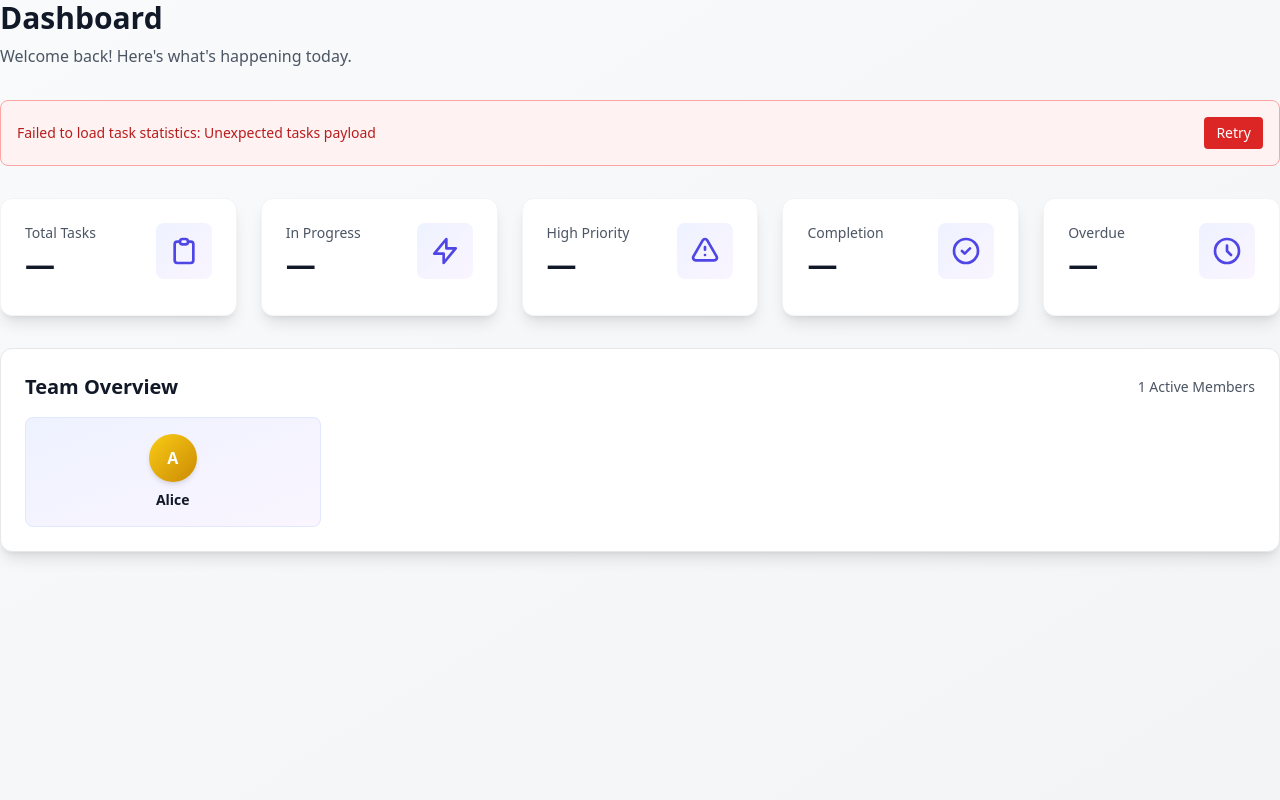
Dashboard main stat links › shows a Retry control on task-stat failure that reloads the stats on click
expect the message "Failed to load task statistics: Unexpected tasks payload Retry" is shown: met, box [0, 100, 1279, 166]
Click the button "Retry".
click(1234, 133)  # box [1204, 117, 1263, 149]
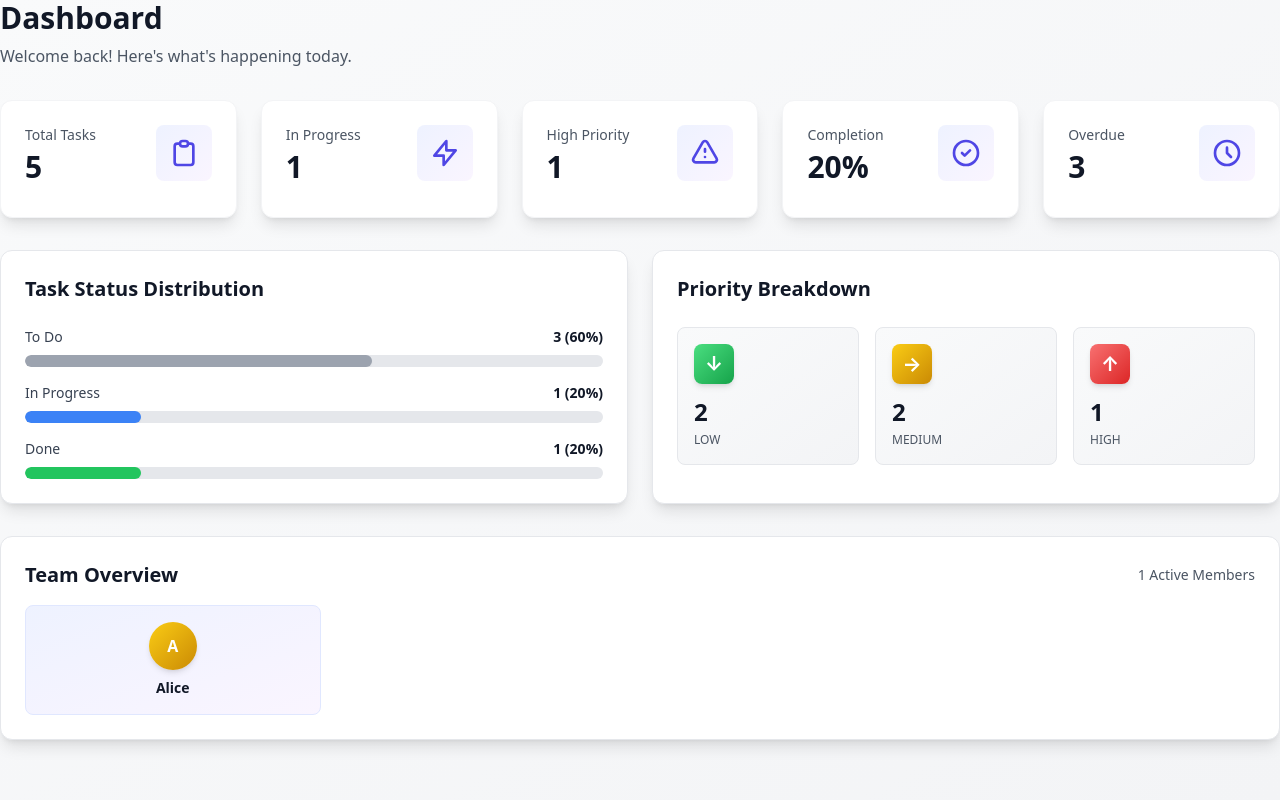
expect the message "Failed to load task statistics: Unexpected tasks payload Retry" is gone: met
expect the link with aria-label "View all tasks" shows "5": met, box [0, 100, 237, 218]
